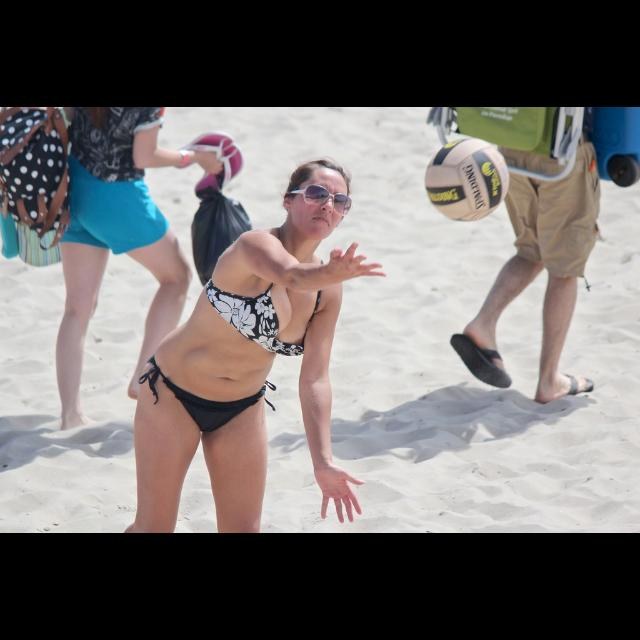Football: (422, 137, 506, 221)
